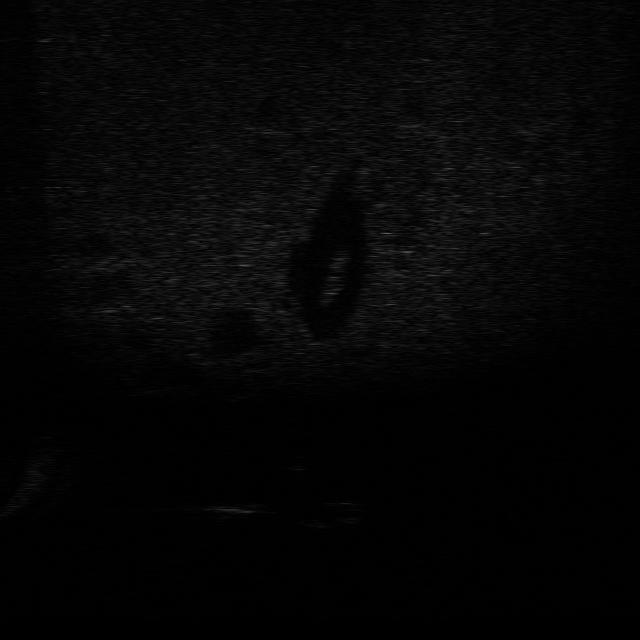ball: (278, 459, 312, 484)
square cage: (200, 495, 275, 527)
tyre: (300, 499, 366, 531)
